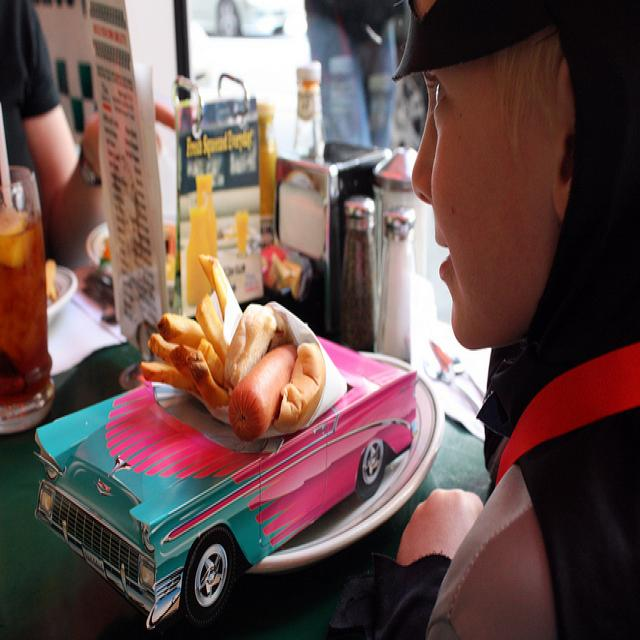Vehicle: (187, 4, 287, 37)
